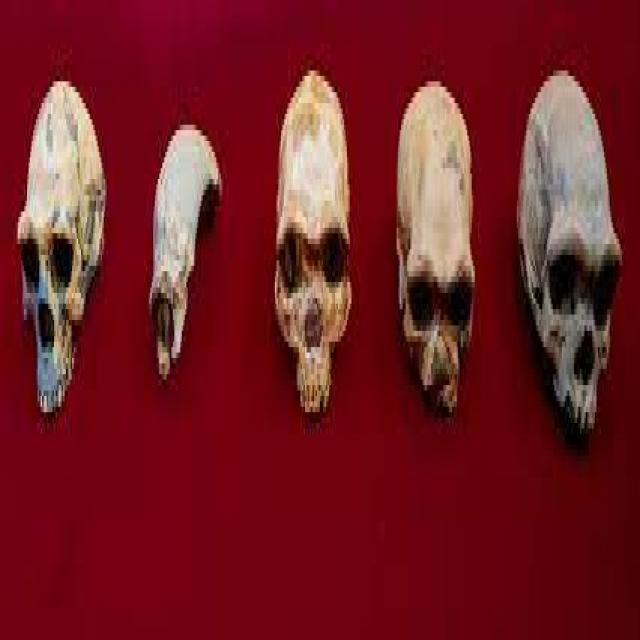skull: (264, 64, 367, 465)
